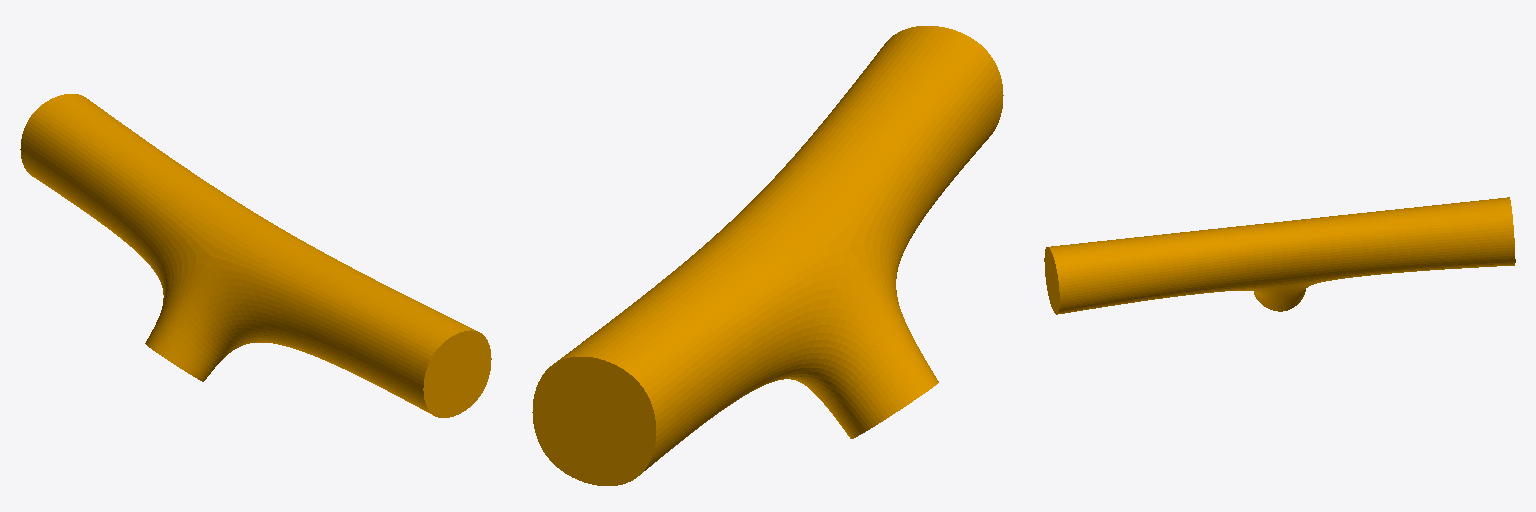
robot.urdf — object:
<robot name="object">
  <link name="object">
    <visual>
      <origin xyz="0 0 0"/>
      <geometry>
        <mesh filename="visual.obj" scale="1 1 1"/>
      </geometry>
    </visual>
    <collision>
      <origin xyz="0 0 0"/>
      <geometry>
        <mesh filename="visual.obj" scale="1 1 1"/>
      </geometry>
    </collision>
    <inertial>
      <mass value="0.05"/>
      <inertia ixx="0.0002009247144665244" iyy="1.58210711369172e-05" izz="0.00020529344885373806" ixy="2.9171999606693507e-05" ixz="-8.778342071590417e-07" iyz="-9.216761284339089e-06"/>
    </inertial>
  </link>
</robot>

--- Render facts (derived) ---
Views: 3 orthographic renders of the robot side by side, from view 1: azimuth 30°, elevation 25°; view 2: azimuth 150°, elevation 25°; view 3: azimuth 270°, elevation 25°.
Model object with 1 links and 0 joints (none), rooted at object, posed all joints at 0.
Visible links, largest first — view 1: object; view 2: object; view 3: object.
Boxes of the visible links, left/top/right/bottom form: object: left=20, top=94, right=491, bottom=417; object: left=532, top=26, right=1003, bottom=485; object: left=1044, top=197, right=1515, bottom=314.
Size in the robot's own frame: 0.0795 by 0.2335 by 0.0644 metres.
Meshes: 1 distinct files referenced, 1 mesh visuals loaded (1 OBJ).
